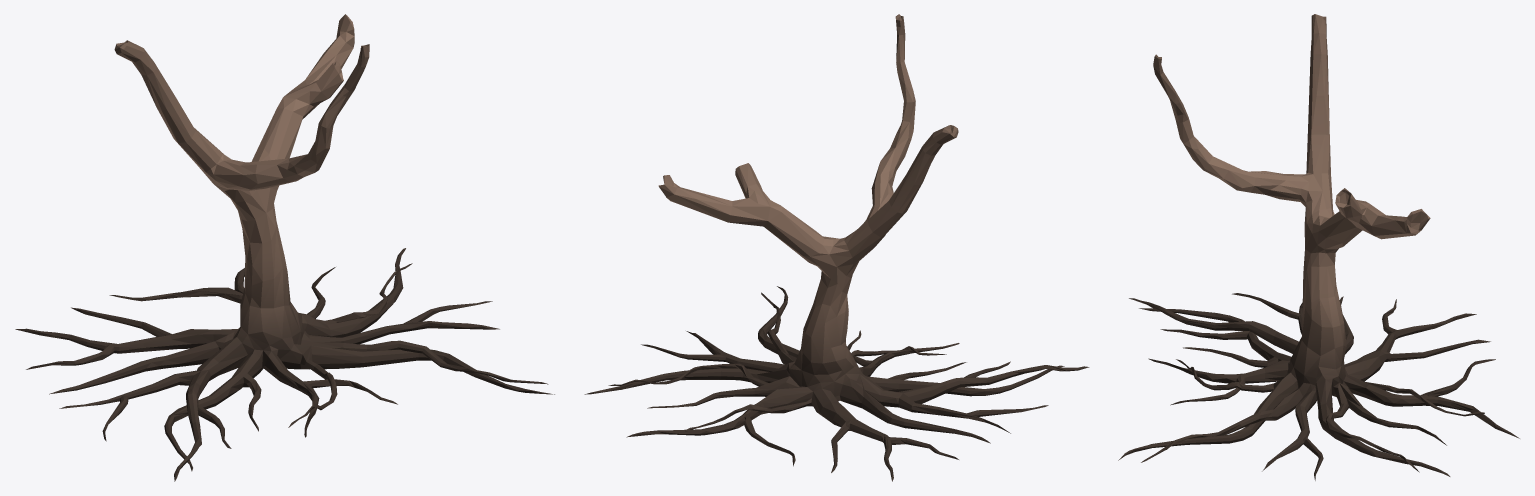
The model's file is Jungle_Tree_Dead_C.fbx.
The picture shows the model from 3 angles, left to right: view 1: azimuth 30°, elevation 25°; view 2: azimuth 150°, elevation 25°; view 3: azimuth 270°, elevation 25°; orthographic projection. The views are drawn at different scales.
Parts seen in each view (by area): view 1: Jungle_Tree_Dead_C; view 2: Jungle_Tree_Dead_C; view 3: Jungle_Tree_Dead_C.
Boxes of the visible parts, box(x1,y1,x2,y2) form: Jungle_Tree_Dead_C: box(15, 14, 554, 481); Jungle_Tree_Dead_C: box(584, 14, 1089, 481); Jungle_Tree_Dead_C: box(1118, 14, 1519, 480).
Size of the model in its own units: 11.44 by 9.59 by 10.31.
Materials: 1 (1 with a texture image).
